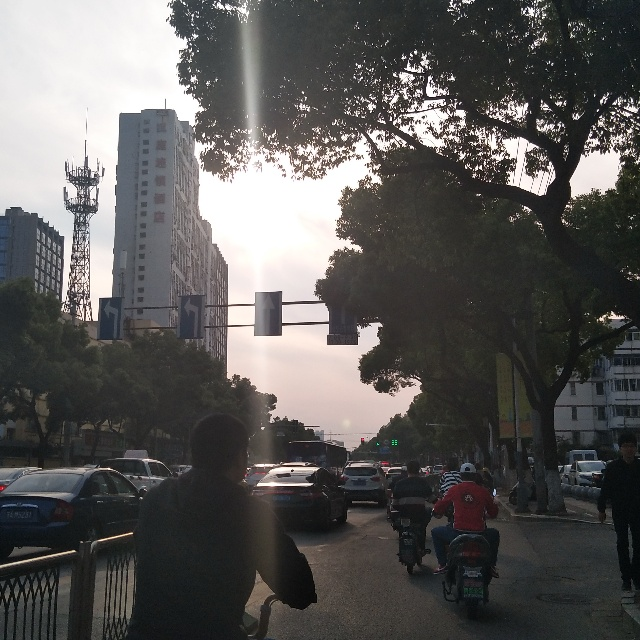left: (176, 294, 202, 336), (100, 296, 124, 341)
straight: (255, 293, 284, 337)
